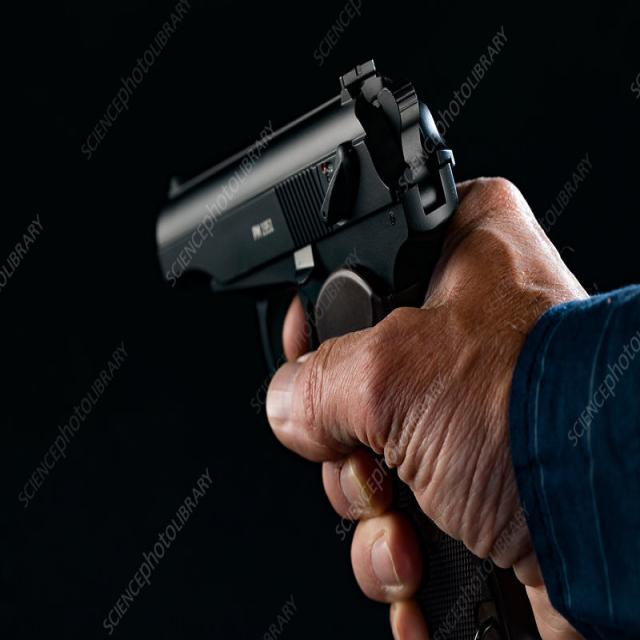HandGun: (156, 64, 458, 374)
